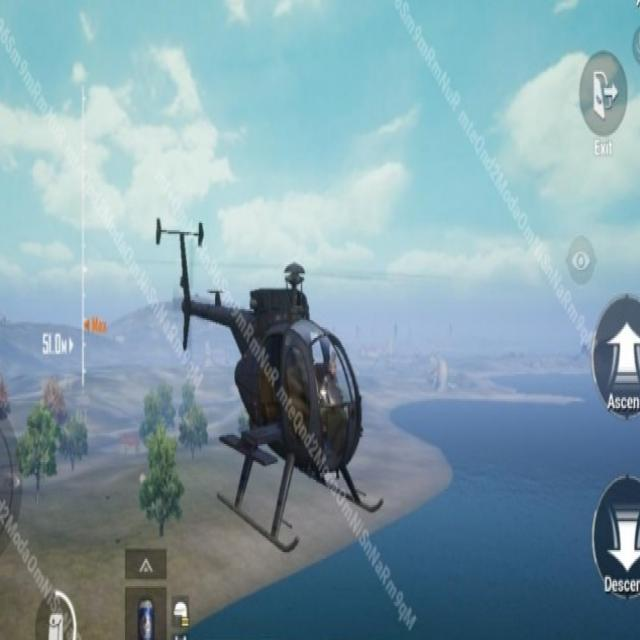helicopter: (155, 217, 409, 560)
